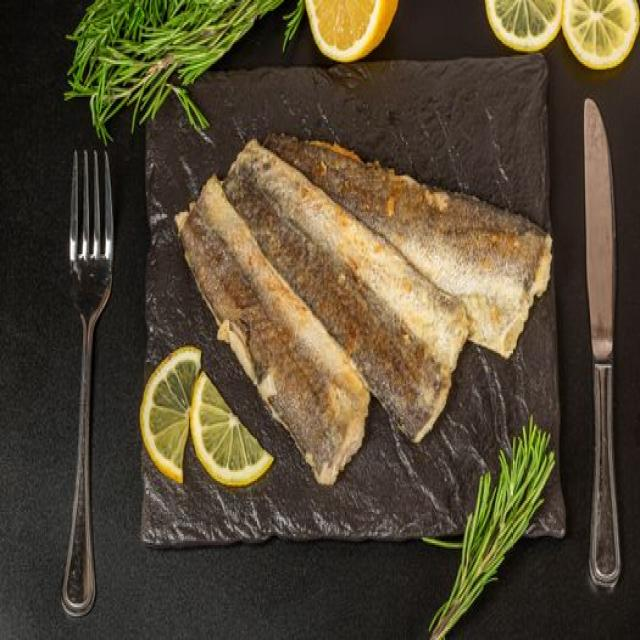knife: (582, 94, 622, 596)
